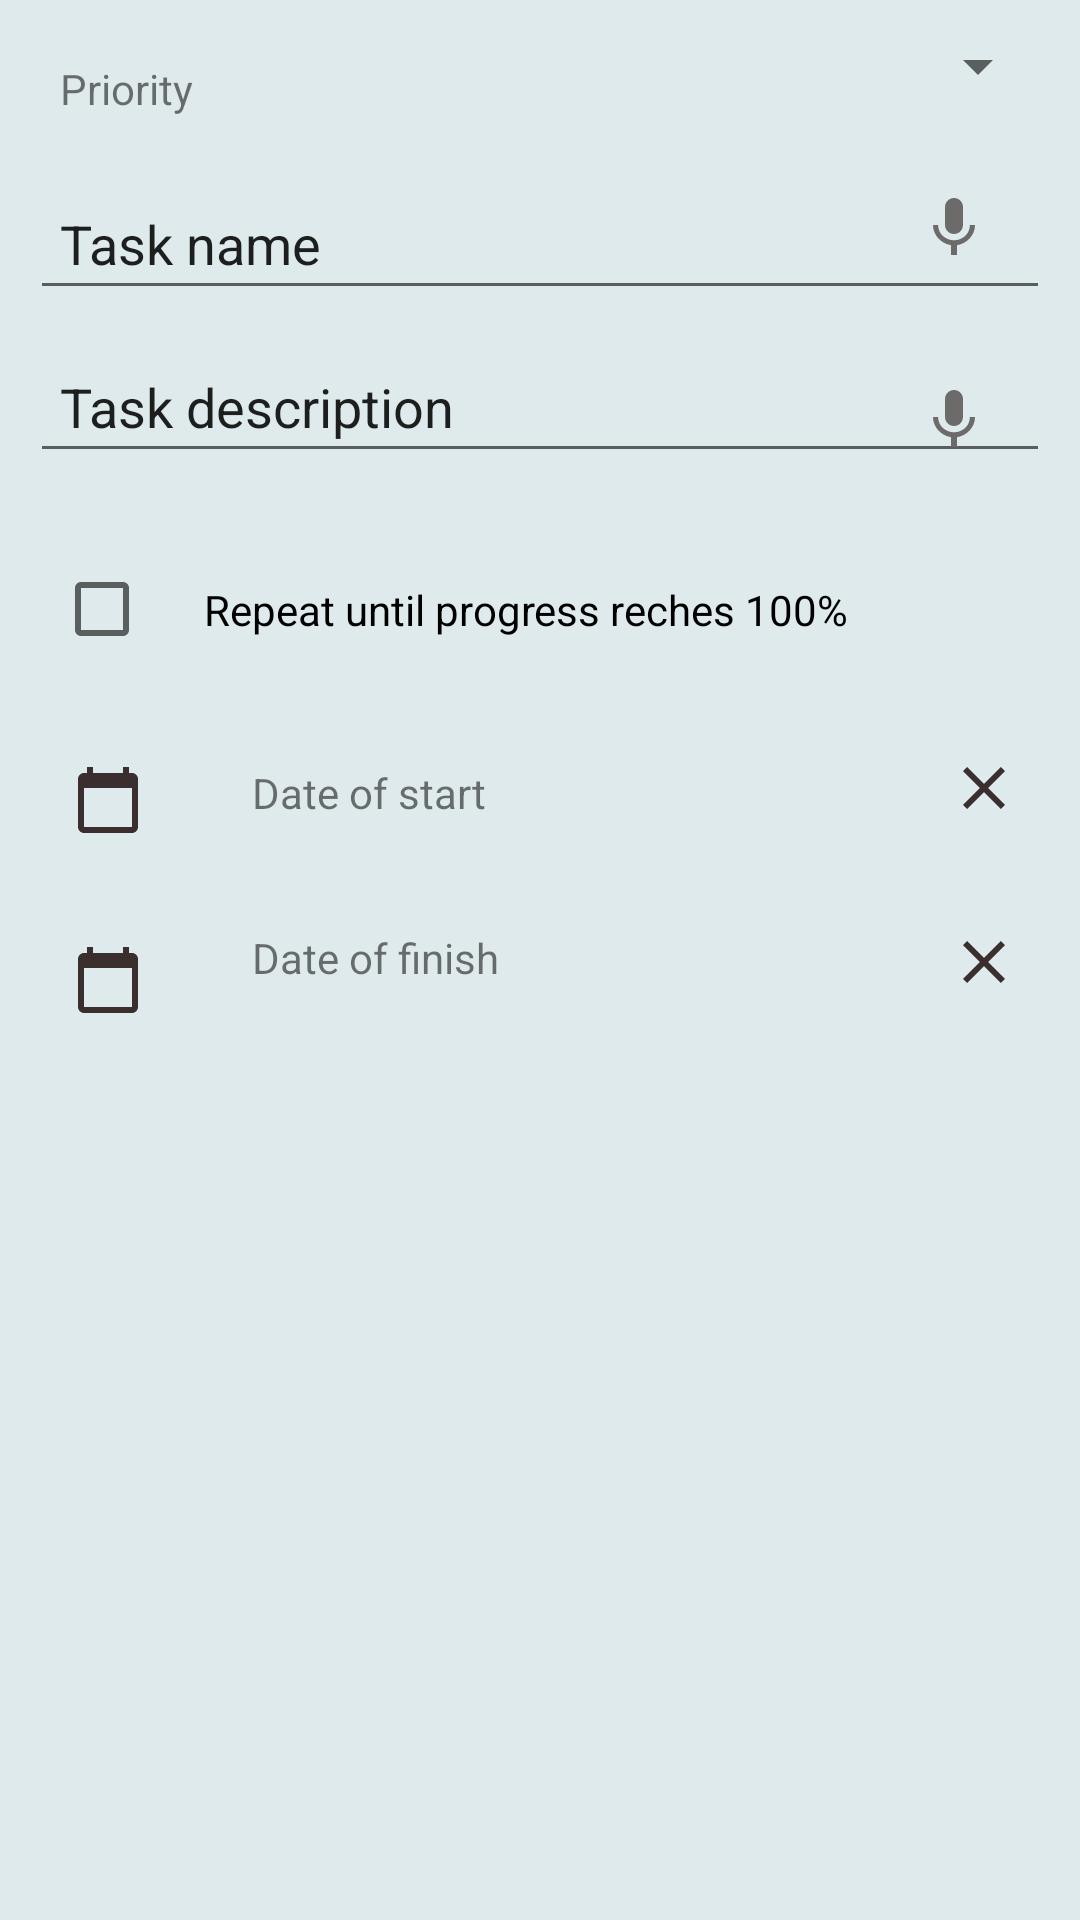

Point at icon controls on the screen. Image size 1080 × 1920, points as [x,y].
calendar: [108,800], [108,980]
close: [984,788], [984,962]
